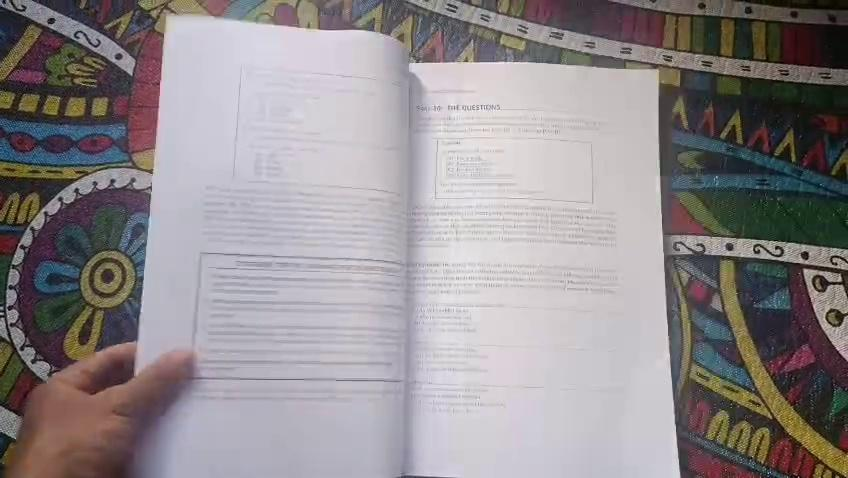Kertas: (371, 70, 659, 478), (197, 69, 412, 478)
